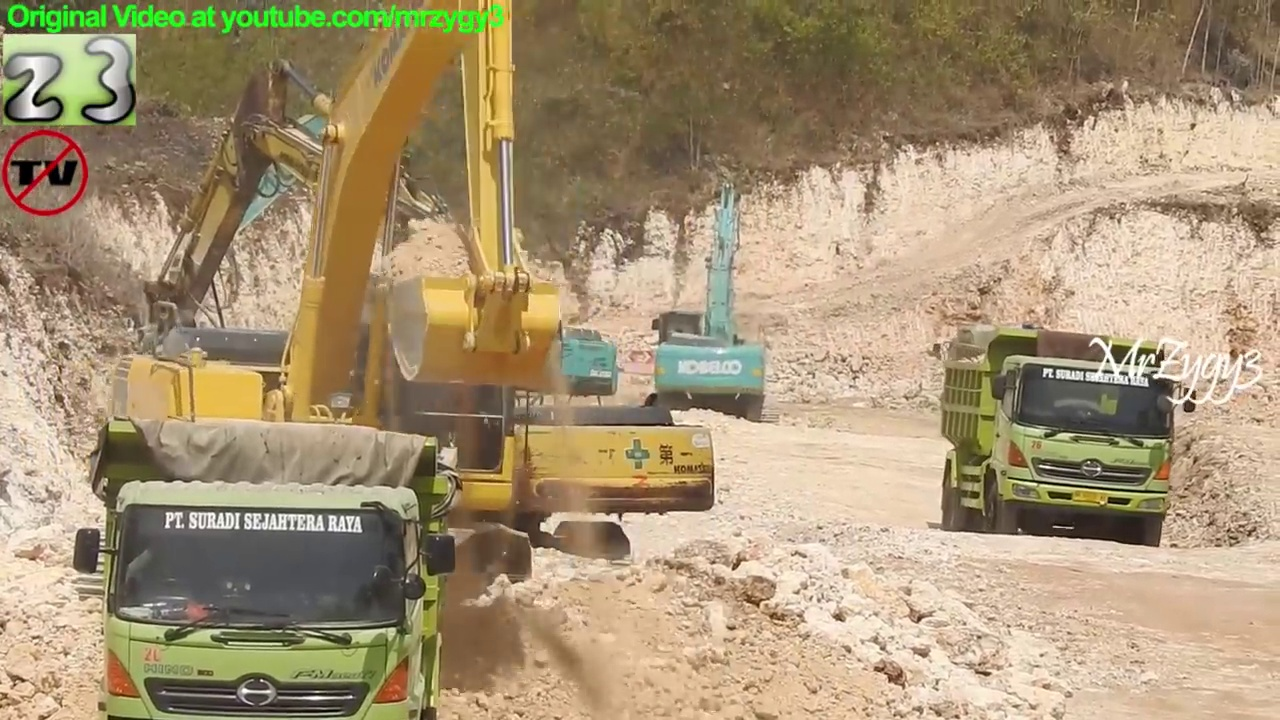excavator: (64, 3, 600, 619), (126, 54, 719, 600), (151, 105, 630, 450), (616, 172, 795, 434)
truck: (72, 414, 466, 720), (931, 320, 1205, 558)
